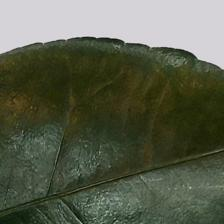healthy: (0, 37, 224, 224)
